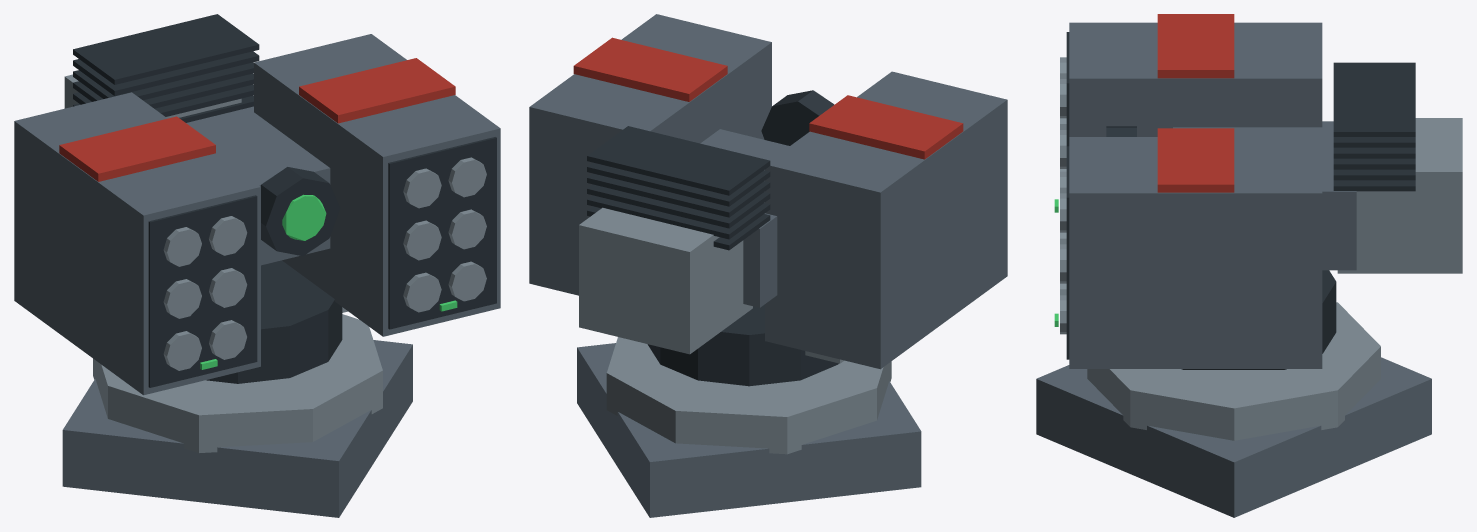
The model's file is quiver_t2_d0.glb.
3 views of the same model, side by side, from view 1: azimuth 30°, elevation 25°; view 2: azimuth 150°, elevation 25°; view 3: azimuth 270°, elevation 25° (orthographic). The views are drawn at different scales.
Parts seen in each view (by area): view 1: ROOT_ARMOR_GEOMETRY; view 2: ROOT_ARMOR_GEOMETRY; view 3: ROOT_ARMOR_GEOMETRY.
Part boxes in pixels (x1,y1,x2,y2): ROOT_ARMOR_GEOMETRY: (14, 14, 500, 517); ROOT_ARMOR_GEOMETRY: (529, 14, 1007, 517); ROOT_ARMOR_GEOMETRY: (1036, 14, 1462, 517).
Size of the model in its own units: 1.58 by 1.46 by 1.67.
